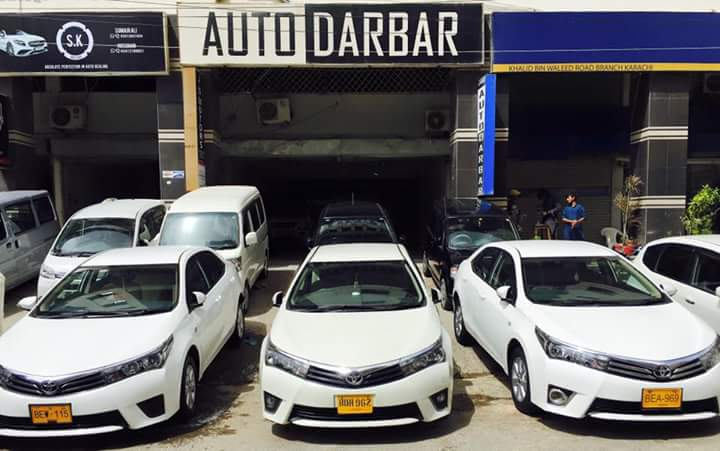license plate: (30, 405, 70, 422), (644, 389, 681, 406)
